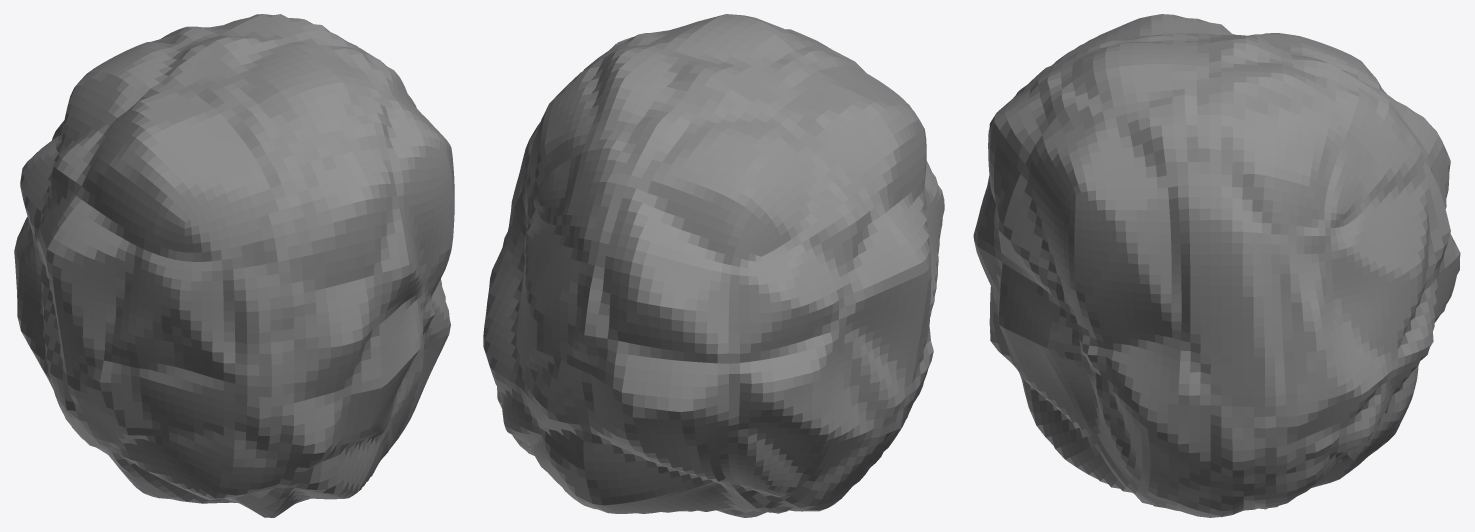
Rendered from stone4.fbx.
3 views of the same model, side by side, from view 1: azimuth 30°, elevation 25°; view 2: azimuth 150°, elevation 25°; view 3: azimuth 270°, elevation 25° (orthographic). The views are drawn at different scales.
Visible parts, largest first — view 1: Cube.002; view 2: Cube.002; view 3: Cube.002.
Boxes of the visible parts, box(x1,y1,x2,y2) form: Cube.002: box(14, 14, 454, 517); Cube.002: box(483, 14, 944, 517); Cube.002: box(973, 14, 1460, 517).
Size of the model in its own units: 172 by 186 by 189.
Materials: 1 (1 with a texture image).
